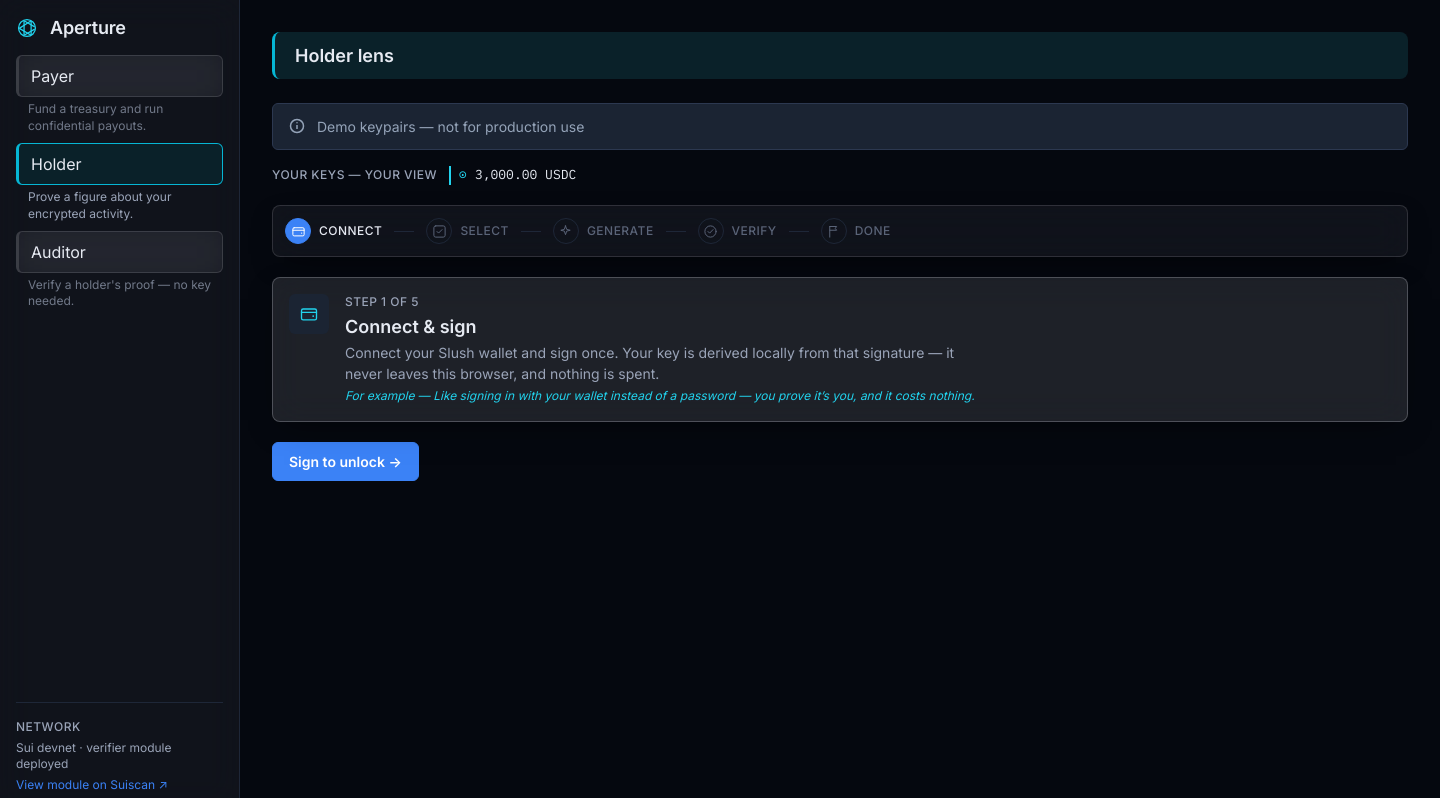
Scenario: App lens switching (AC-1) › shows Auditor lens with VerifyProof panel (Story 3.3)
Click the button "Auditor": click(120, 252) [16, 231, 223, 273]
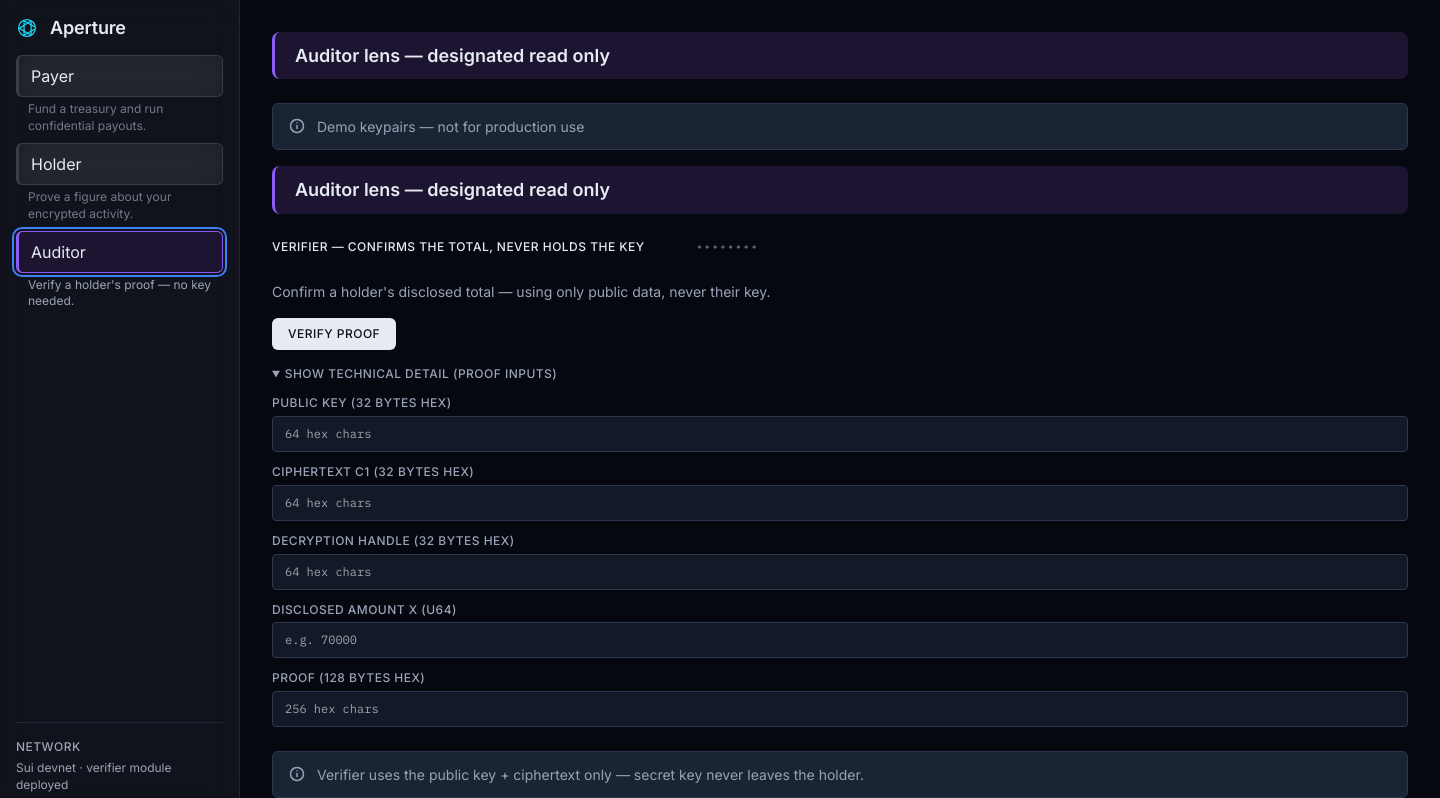
Result: the element with test id "verify-proof" is shown at [272, 281, 1408, 727]
